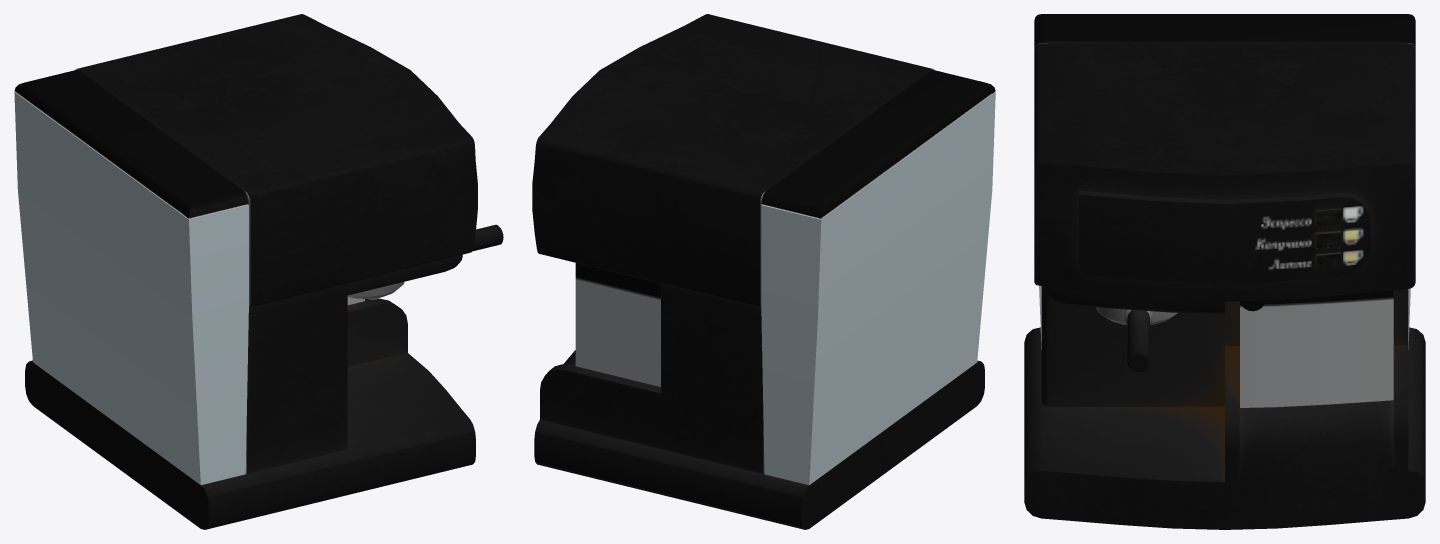
File: Espresso_Coffee_Machine.fbx
The picture shows the model from 3 angles, left to right: view 1: azimuth 30°, elevation 25°; view 2: azimuth 150°, elevation 25°; view 3: azimuth 270°, elevation 25°; orthographic projection. The views are drawn at different scales.
Visible parts, largest first — view 1: Base.001; view 2: Base.001; view 3: Base.001.
Boxes of the visible parts, box(x1,y1,x2,y2) form: Base.001: box(14, 14, 503, 529); Base.001: box(532, 14, 995, 529); Base.001: box(1024, 14, 1425, 529).
Size of the model in its own units: 239 by 208 by 212.
